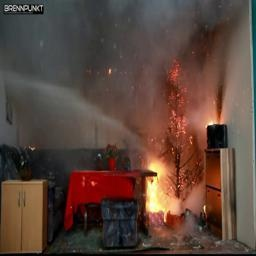fire: (133, 144, 208, 226)
